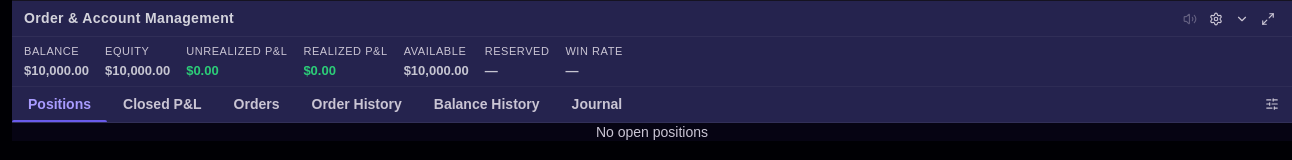
Test case: Section 4.7 — Balance History tab › 4.7: shows "No balance history yet" when balanceLog is empty
The image size is (1292, 160).
Click the button "Balance History" at (487, 104), box [418, 87, 556, 122]
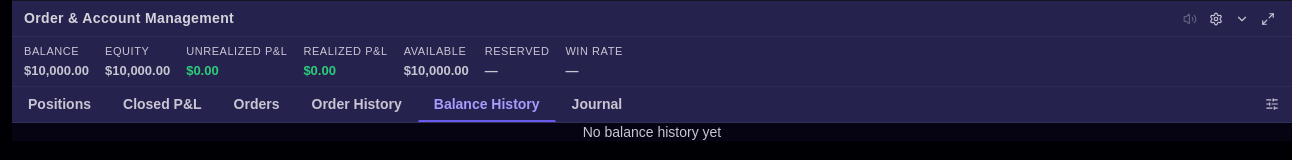
Result: the text "No balance history yet" is shown at [583, 124, 721, 140]
